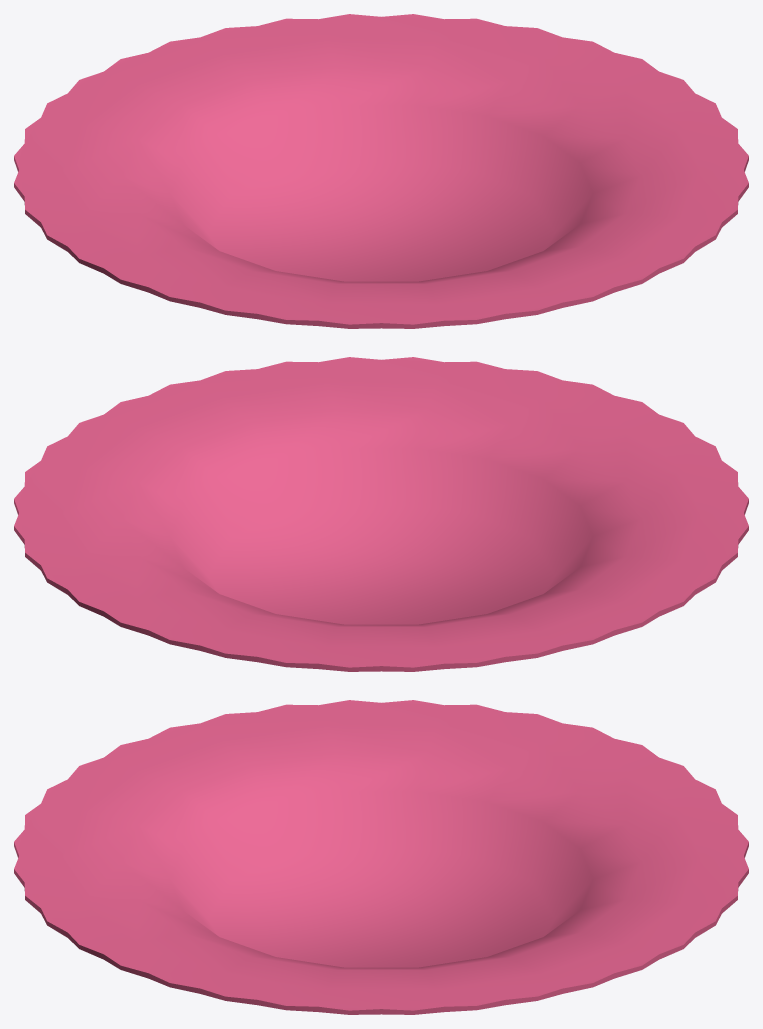
Rendered from Tableware_V8_1.fbx.
The picture shows the model from 3 angles, top to bottom: view 1: azimuth 30°, elevation 25°; view 2: azimuth 150°, elevation 25°; view 3: azimuth 270°, elevation 25°; orthographic projection.
Parts seen in each view (by area): view 1: SM_Tableware_V8_1; view 2: SM_Tableware_V8_1; view 3: SM_Tableware_V8_1.
Part boxes in pixels (x1,y1,x2,y2): SM_Tableware_V8_1: [14, 14, 748, 328]; SM_Tableware_V8_1: [14, 357, 748, 671]; SM_Tableware_V8_1: [14, 700, 748, 1014].
Bounding box in the file's own units: 24.9 × 2.72 × 24.9.
